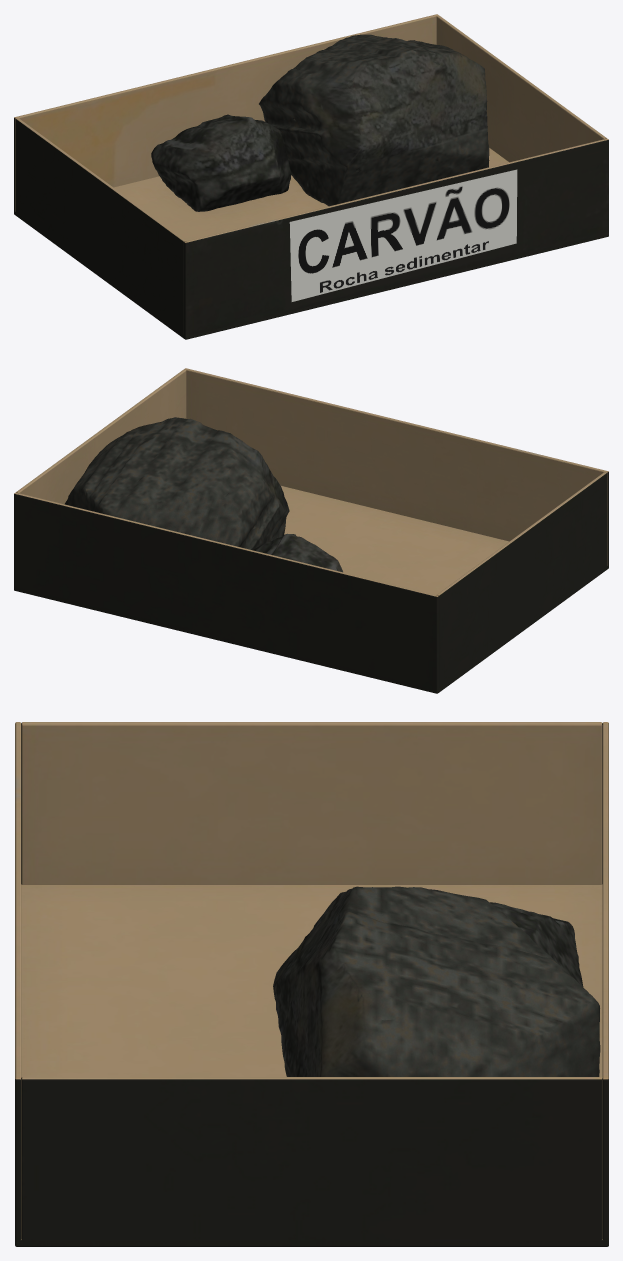
File: rocha_02_01_carvao.glb
3 renders of one model, top to bottom at view 1: azimuth 30°, elevation 25°; view 2: azimuth 150°, elevation 25°; view 3: azimuth 270°, elevation 25°, orthographic. The views are drawn at different scales.
Parts seen in each view (by area): view 1: Fragmento_02_mo01, Bandeja_Frente_mo01, Etiqueta_mo01, Bandeja_Fundo_mo01, Bandeja_Esquerda_mo01, Fragmento_01_mo01, Bandeja_Direita_mo01, Bandeja_Base_mo01; view 2: Bandeja_Fundo_mo01, Bandeja_Frente_mo01, Fragmento_02_mo01, Bandeja_Esquerda_mo01, Bandeja_Base_mo01, Bandeja_Direita_mo01, Fragmento_01_mo01; view 3: Bandeja_Direita_mo01, Bandeja_Esquerda_mo01, Bandeja_Base_mo01, Fragmento_02_mo01, Bandeja_Frente_mo01, Bandeja_Fundo_mo01, Fragmento_01_mo01.
Part boxes in pixels (x1,y1,x2,y2): Fragmento_02_mo01: (259,34,489,206); Bandeja_Frente_mo01: (184,138,608,339); Etiqueta_mo01: (289,169,517,301); Bandeja_Fundo_mo01: (14,14,438,214); Bandeja_Esquerda_mo01: (16,118,185,337); Fragmento_01_mo01: (151,114,291,211); Bandeja_Direita_mo01: (436,15,606,162); Bandeja_Base_mo01: (14,148,561,339); Bandeja_Fundo_mo01: (14,492,438,693); Bandeja_Frente_mo01: (184,368,608,568); Fragmento_02_mo01: (64,417,289,550); Bandeja_Esquerda_mo01: (437,472,606,691); Bandeja_Base_mo01: (89,486,608,693); Bandeja_Direita_mo01: (16,369,186,504); Fragmento_01_mo01: (253,533,342,572); Bandeja_Direita_mo01: (21,1077,602,1246); Bandeja_Esquerda_mo01: (21,722,602,884); Bandeja_Base_mo01: (15,884,608,1246); Fragmento_02_mo01: (273,886,600,1076); Bandeja_Frente_mo01: (15,722,21,1246); Bandeja_Fundo_mo01: (602,722,608,1246); Fragmento_01_mo01: (490,902,583,986).
Size of the model in its own units: 0.2 by 0.0636 by 0.1407.
3 materials, 3 textured.
